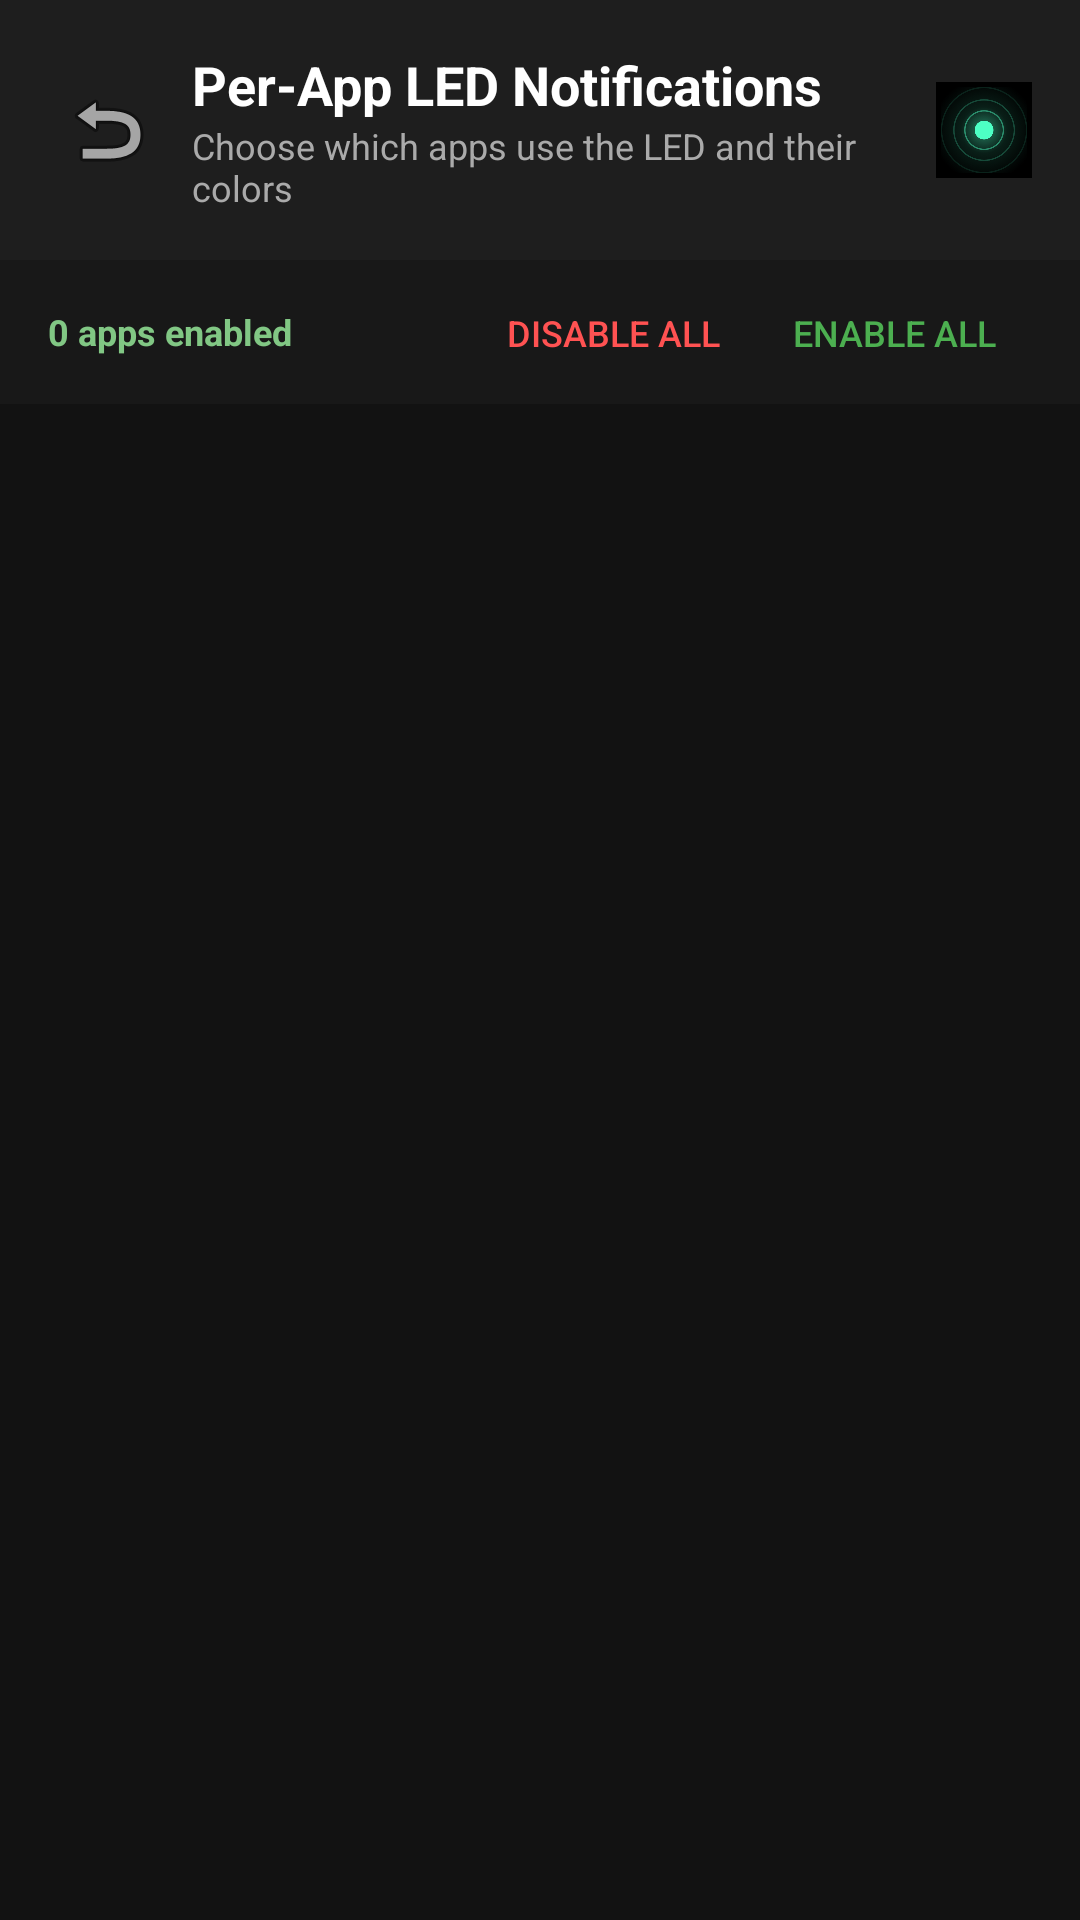

Icon click points for this 1080×1920 phone screenshot, format [x,y]:
Back: [109,130]
